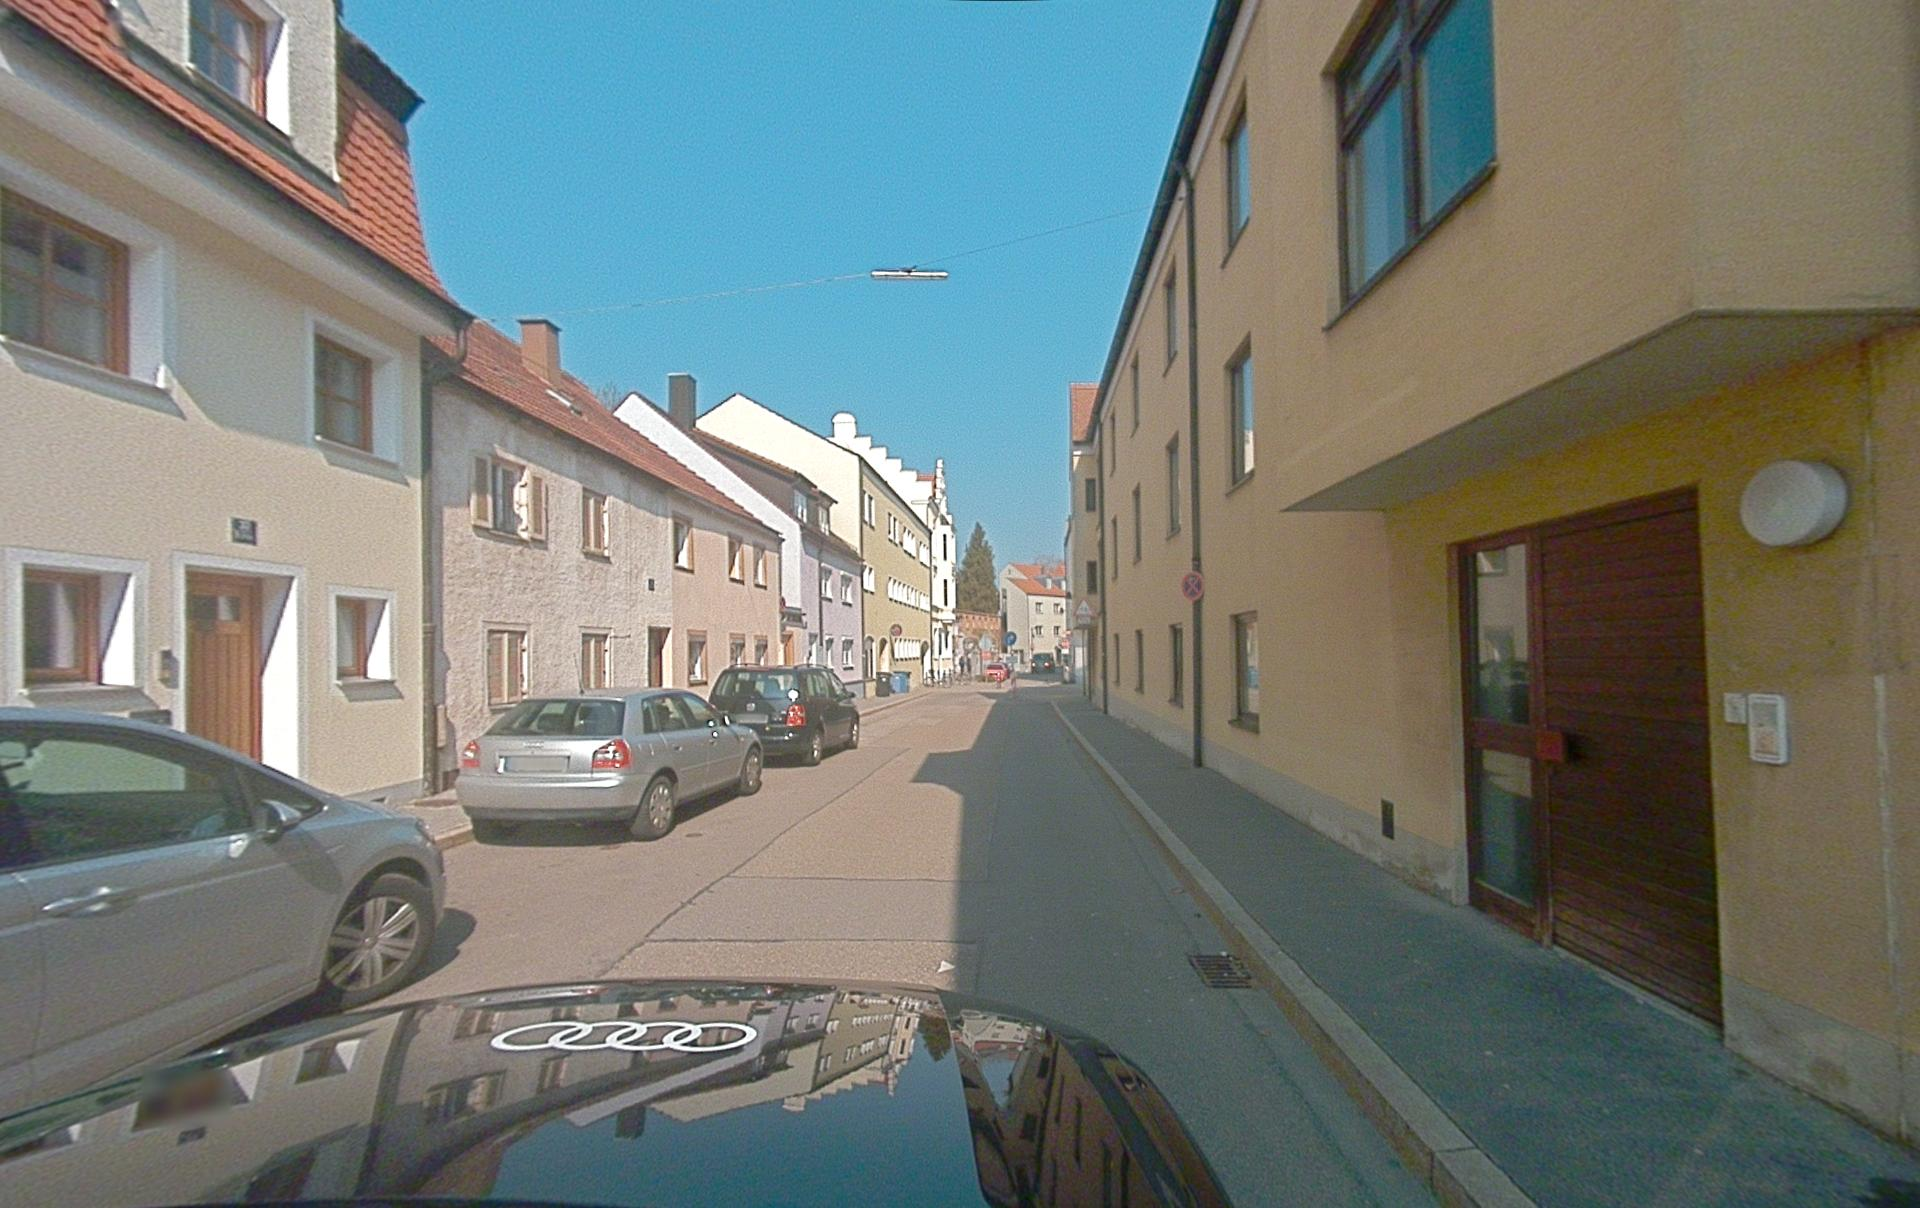car: (0, 976, 1235, 1208), (0, 704, 447, 1148), (455, 686, 764, 841), (708, 664, 860, 767), (1031, 653, 1055, 674), (985, 664, 1007, 683)
